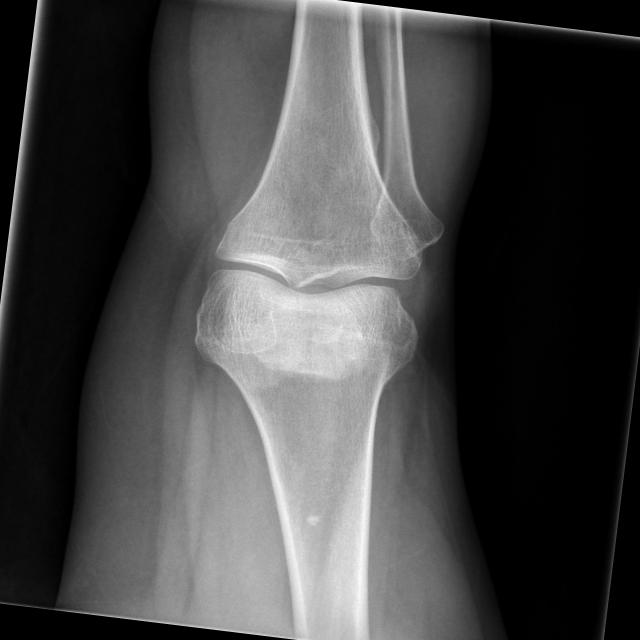Knee: (192, 200, 434, 372)
